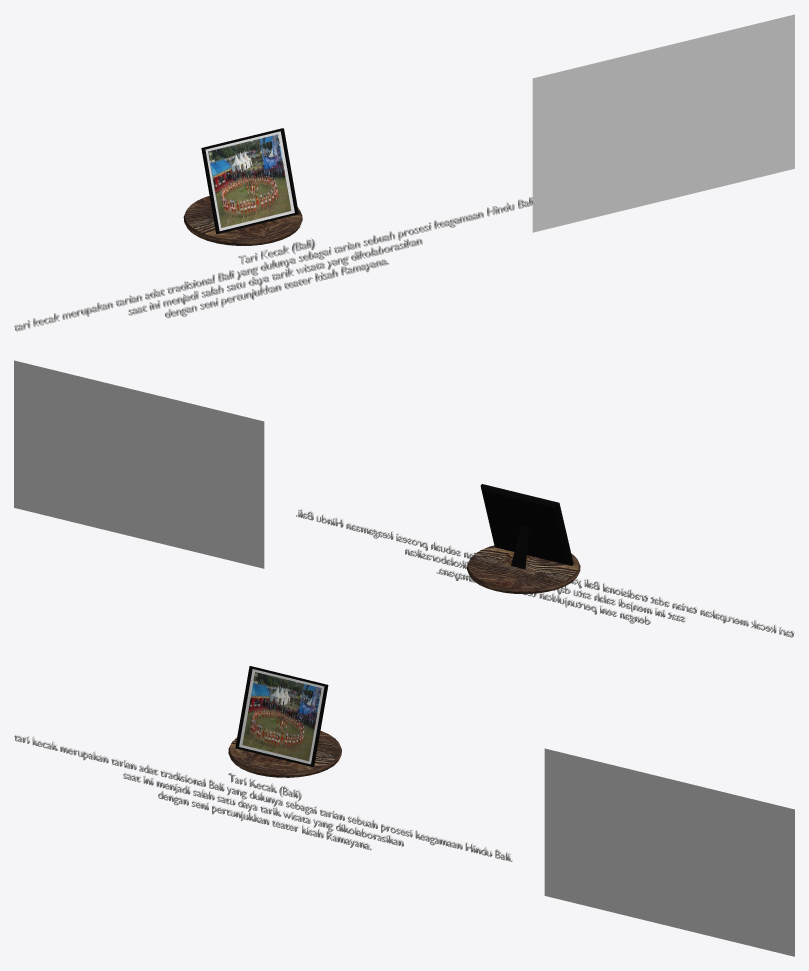
The model's file is 18. Tari Kecak (Bali).fbx.
The picture shows the model from 3 angles, top to bottom: view 1: azimuth 30°, elevation 25°; view 2: azimuth 150°, elevation 25°; view 3: azimuth 330°, elevation 25°; orthographic projection. The views are drawn at different scales.
Visible parts, largest first — view 1: Plane, Cube.014, Text; view 2: Plane, Cube.014, Text; view 3: Plane, Cube.014, Text.
Boxes of the visible parts, x1,y1,x2,y2 form: Plane: [532, 14, 794, 232]; Cube.014: [183, 128, 302, 245]; Text: [14, 197, 536, 331]; Plane: [14, 360, 264, 568]; Cube.014: [467, 484, 580, 594]; Text: [296, 509, 794, 637]; Plane: [544, 748, 794, 956]; Cube.014: [228, 666, 341, 777]; Text: [14, 734, 512, 861].
Size of the model in its own units: 9748 by 1806 by 1260.
Materials: 6 (3 with a texture image).
